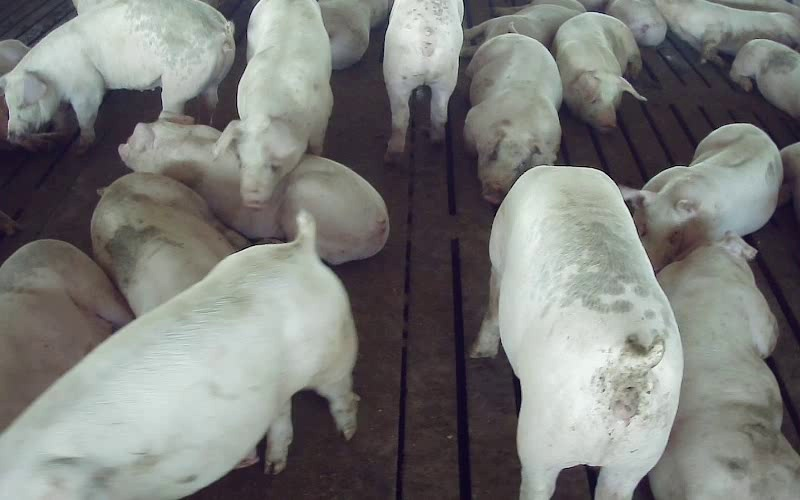pig: (0, 211, 357, 497), (472, 166, 682, 499), (649, 235, 799, 499), (119, 121, 388, 264), (0, 0, 233, 146), (0, 239, 132, 430), (623, 123, 782, 270), (91, 172, 248, 315), (464, 33, 561, 203), (552, 12, 645, 130), (656, 0, 799, 63), (730, 39, 799, 118)
